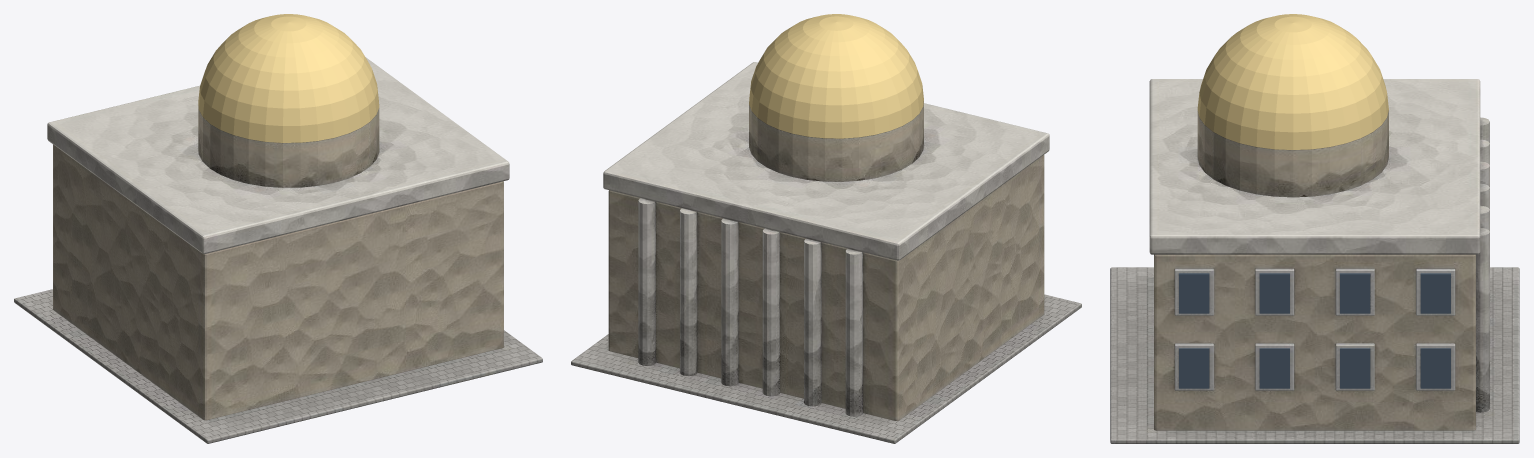
The model's file is oper.glb.
3 views of the same model, side by side, from view 1: azimuth 30°, elevation 25°; view 2: azimuth 150°, elevation 25°; view 3: azimuth 270°, elevation 25° (orthographic). The views are drawn at different scales.
Visible parts, largest first — view 1: oper, oper_details; view 2: oper, oper_details; view 3: oper, oper_details.
Boxes of the visible parts, bbox=[...] form: oper: bbox=[14, 57, 542, 443]; oper_details: bbox=[198, 14, 379, 142]; oper: bbox=[571, 62, 1081, 443]; oper_details: bbox=[749, 14, 923, 138]; oper: bbox=[1110, 79, 1519, 443]; oper_details: bbox=[1179, 14, 1450, 388].
Bounding box in the file's own units: 0.94 × 0.85 × 0.94.
Materials: 3 (1 with a texture image).
